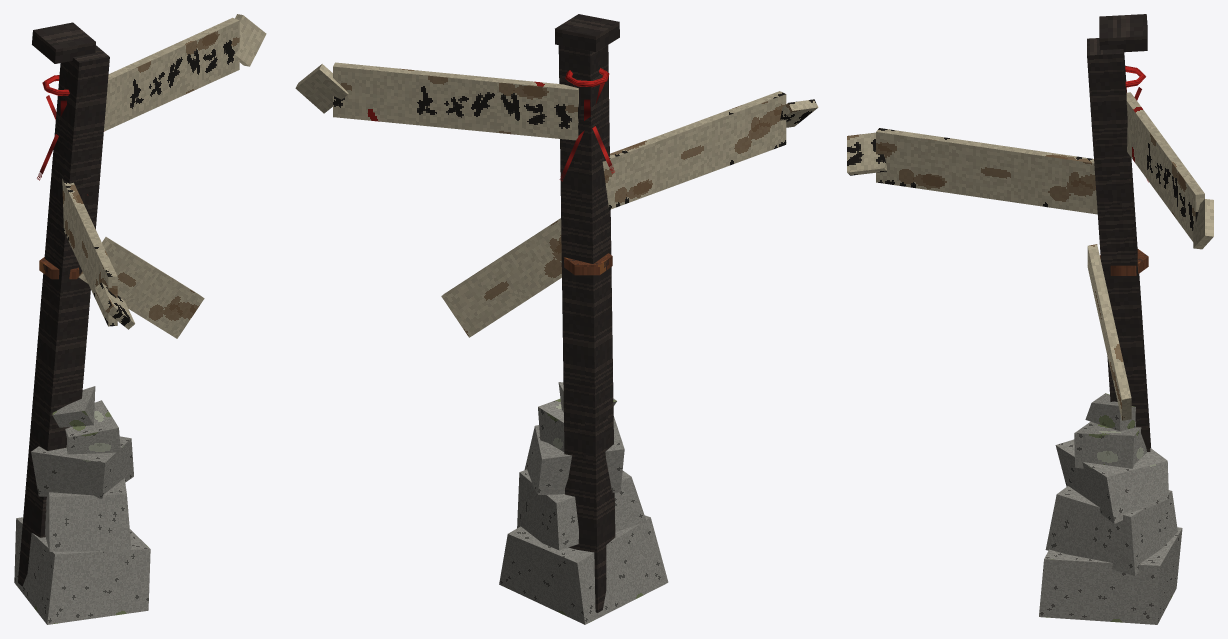
The model's file is prop_signpost.glb.
3 renders of one model, left to right at view 1: azimuth 30°, elevation 25°; view 2: azimuth 150°, elevation 25°; view 3: azimuth 270°, elevation 25°, orthographic. The views are drawn at different scales.
Visible parts, largest first — view 1: prop_signpost; view 2: prop_signpost; view 3: prop_signpost.
Boxes of the visible parts, <box> form: prop_signpost: <box>14,14,266,624</box>; prop_signpost: <box>295,14,818,624</box>; prop_signpost: <box>847,14,1213,624</box>.
Size of the model in its own units: 1.42 by 2.28 by 1.31.
Materials: 6 (6 with a texture image).
